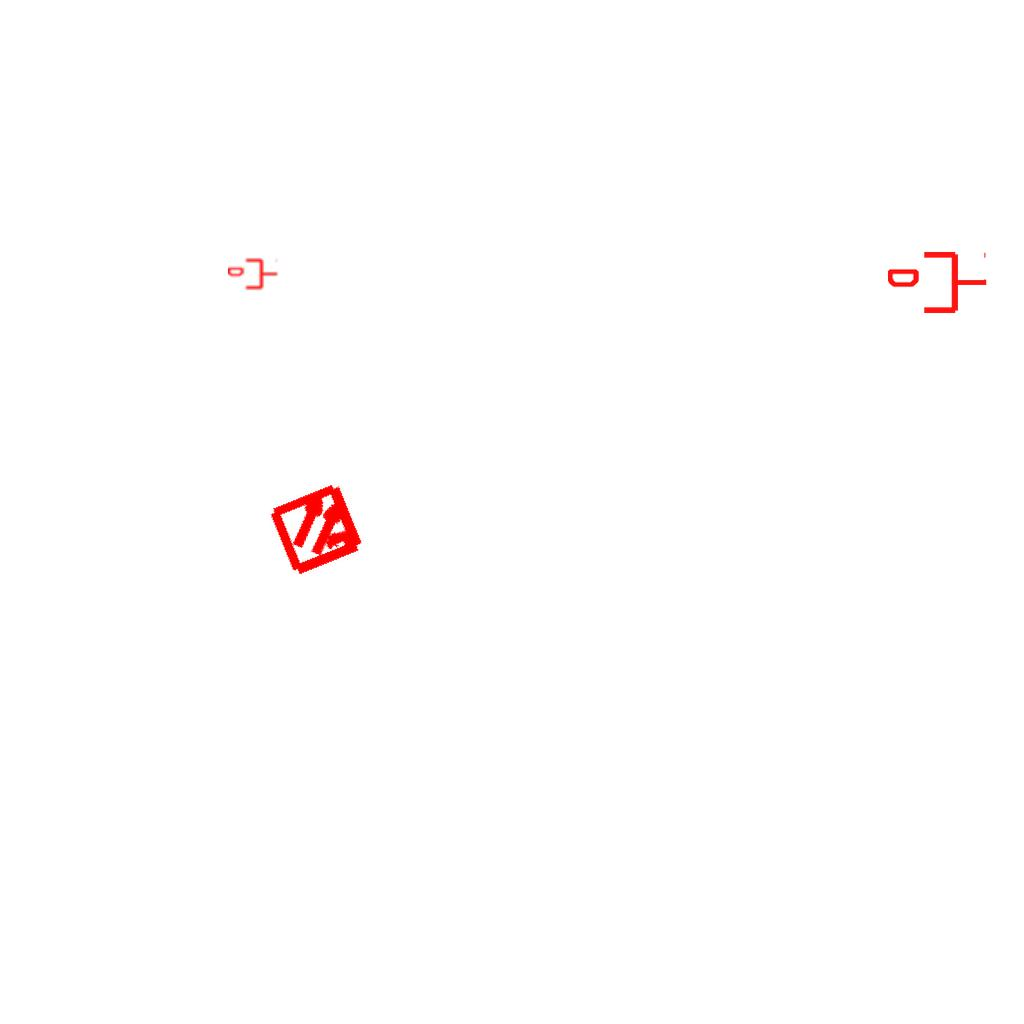Datenanschluss_einfach: (888, 248, 988, 317), (228, 257, 278, 291)
OT_Multisensormelder_(Kombination_RMO_WMD): (244, 454, 393, 603)
